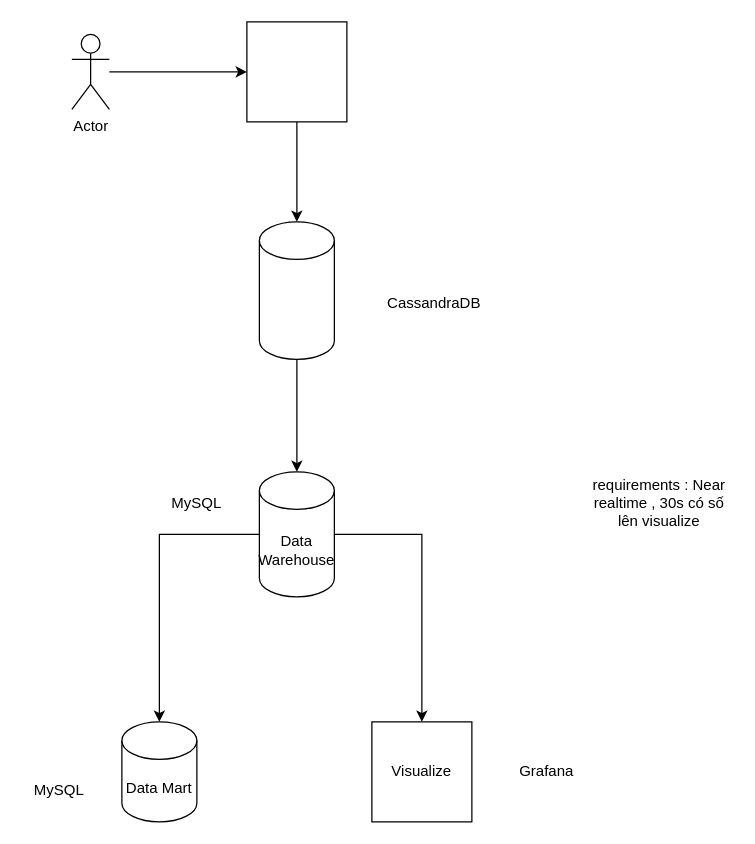
This 755x844 diagram has some shape labels left out. The shapes that lost their labels are listed below. From the top down, each one's centre as x and y in pixels, then its label:
At pixel 296 71: "Applications".
At pixel 296 290: "Data Lake".
